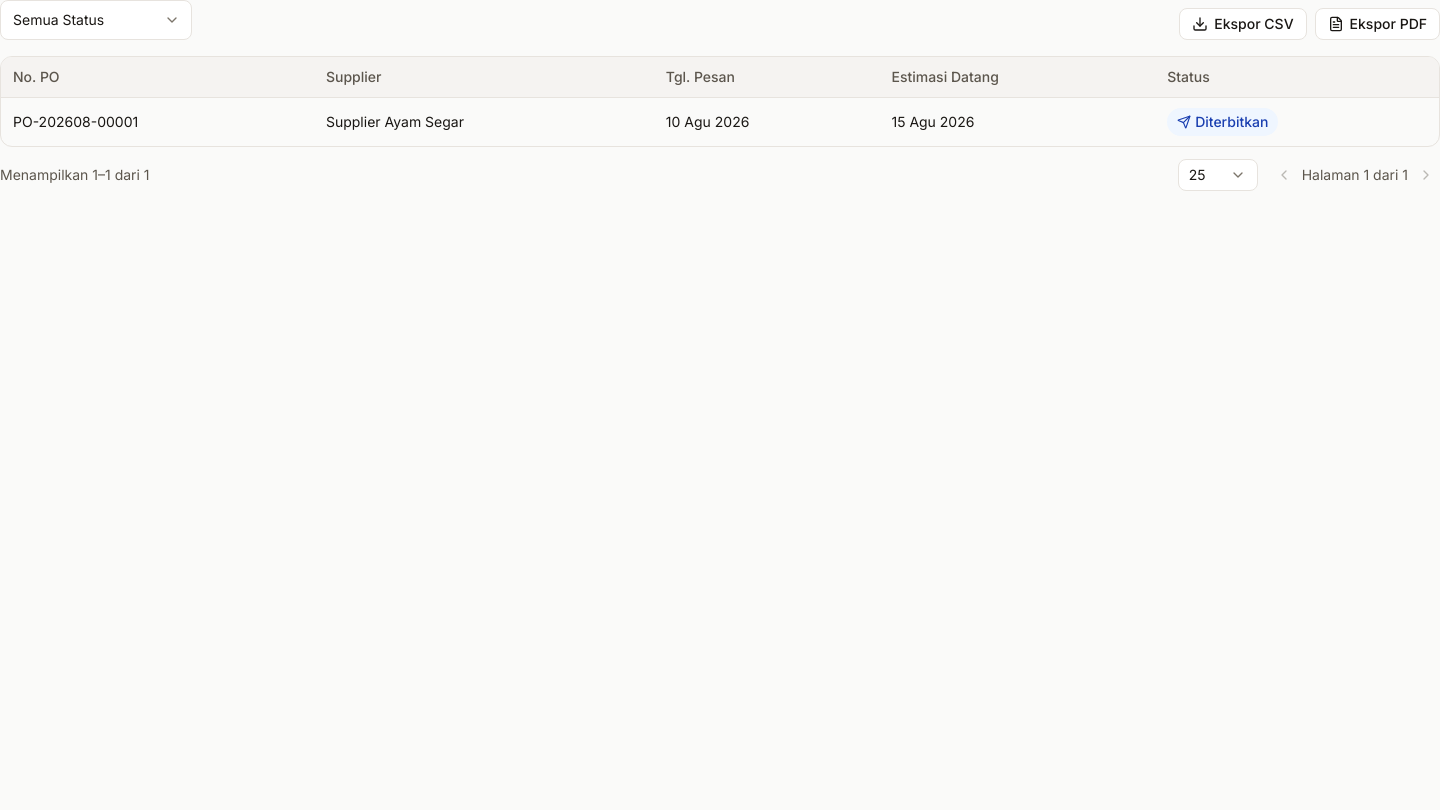
Test: PurchaseOrdersPanel — status ladder + D-20 price lock › issued -> receive posts the receipt and never exposes a price field in the receive form
What coordinates should you click on to do the following:
click the text "PO-202608-00001"
I would click on:
 (76, 122)
Its box is left=1, top=98, right=314, bottom=146.
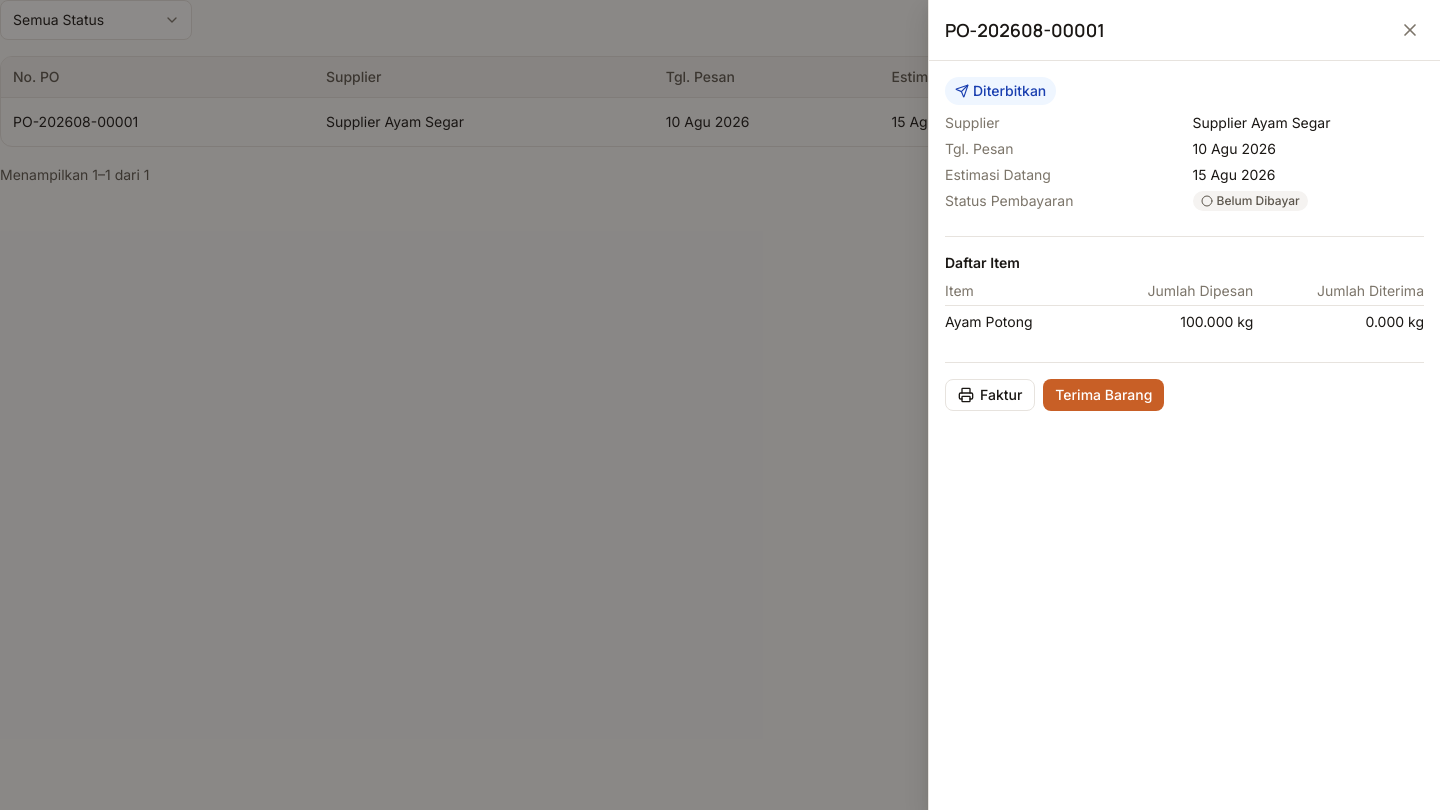
What coordinates should you click on to do the following:
click the button "Terima Barang"
I would click on:
 (1104, 395)
Its box is left=1043, top=379, right=1164, bottom=411.
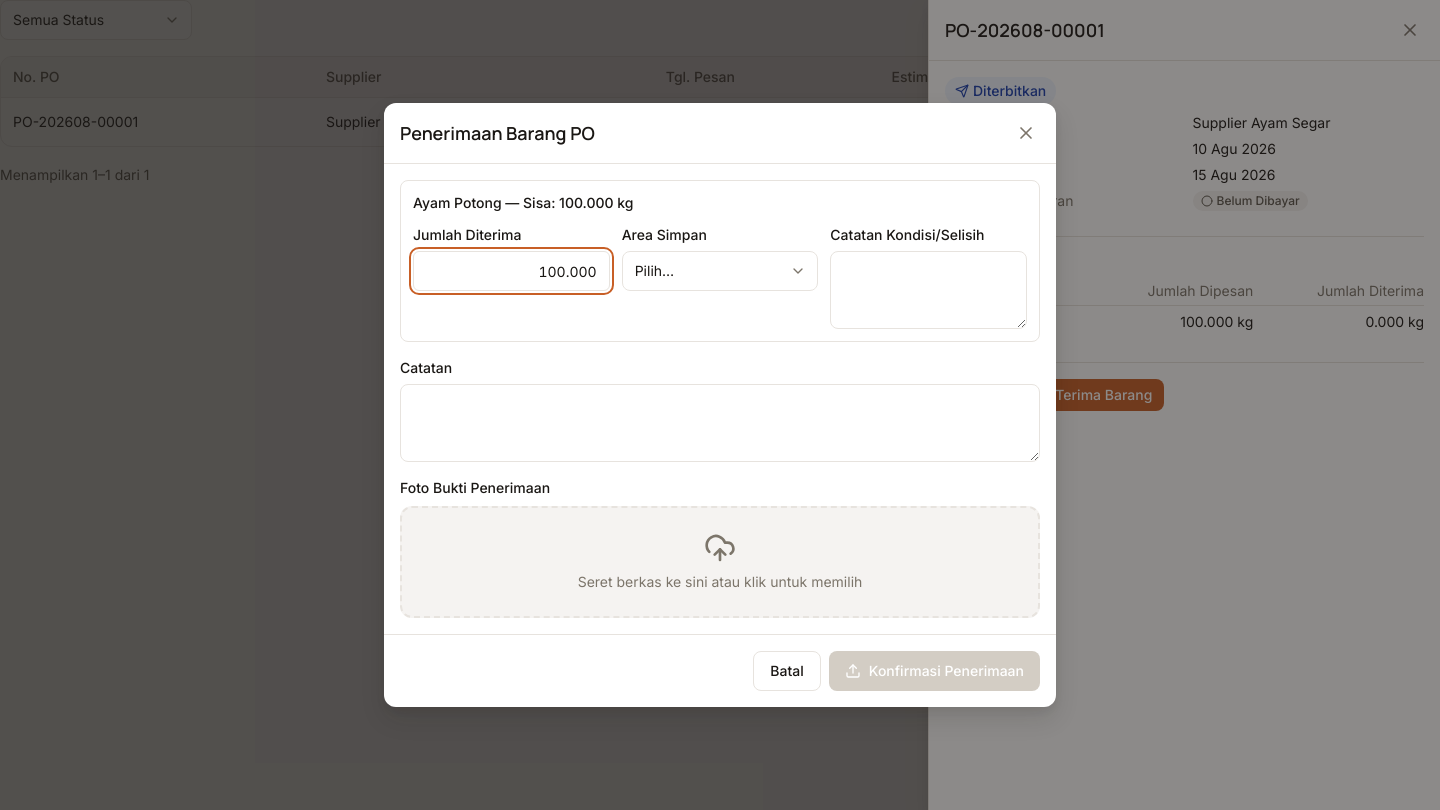
Expected: the button "Konfirmasi Penerimaan" is disabled, left=829, top=651, right=1040, bottom=691
